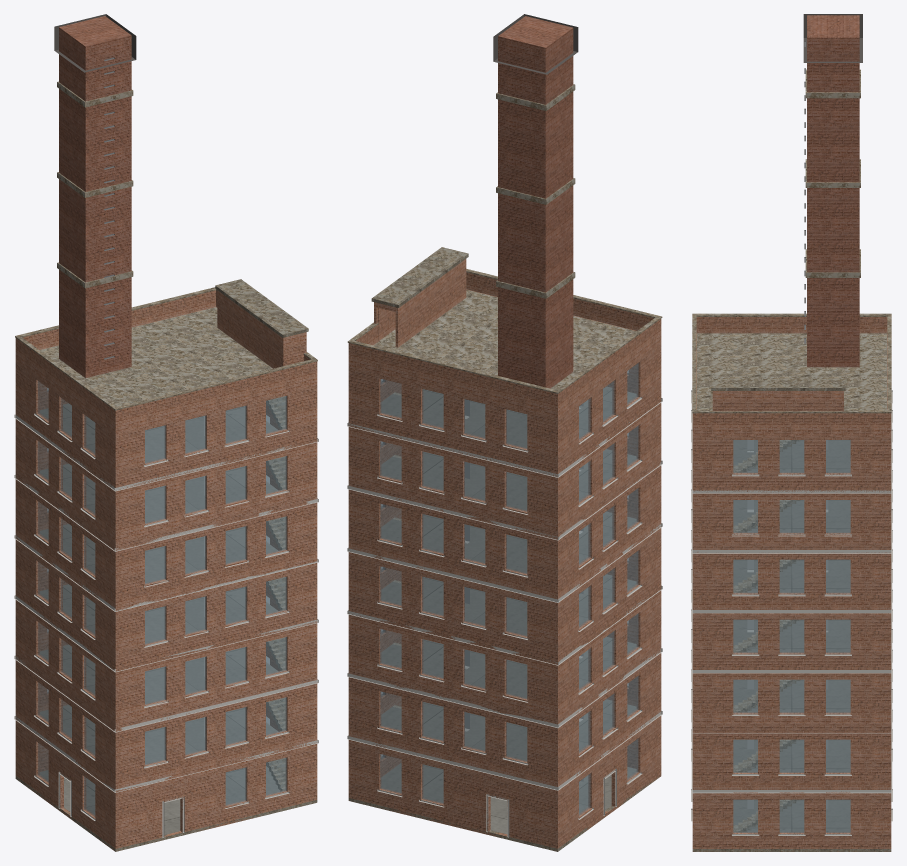
The model's file is ew-boiler-tower.works-v1.lod0.glb.
3 renders of one model, left to right at view 1: azimuth 30°, elevation 25°; view 2: azimuth 150°, elevation 25°; view 3: azimuth 270°, elevation 25°, orthographic. The views are drawn at different scales.
Parts seen in each view (by area): view 1: ew-boiler-tower; view 2: ew-boiler-tower; view 3: ew-boiler-tower.
Part boxes in pixels (box(x1,y1,x2,y2)): ew-boiler-tower: box(14, 14, 318, 851); ew-boiler-tower: box(347, 14, 662, 851); ew-boiler-tower: box(691, 14, 892, 851).
Size of the model in its own units: 14.2 by 50.2 by 12.2.
Materials: 5 (3 with a texture image).
